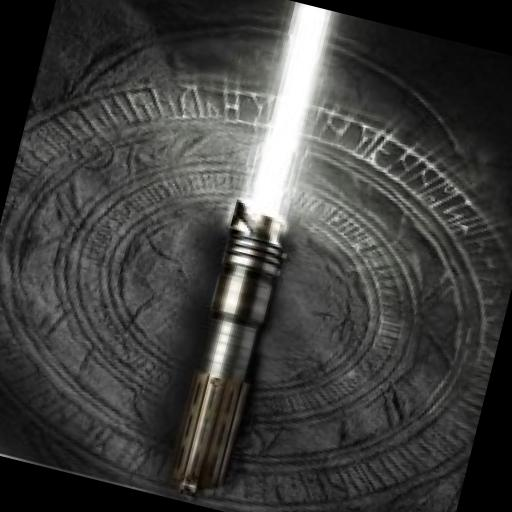lightsaber: (161, 0, 340, 505)
